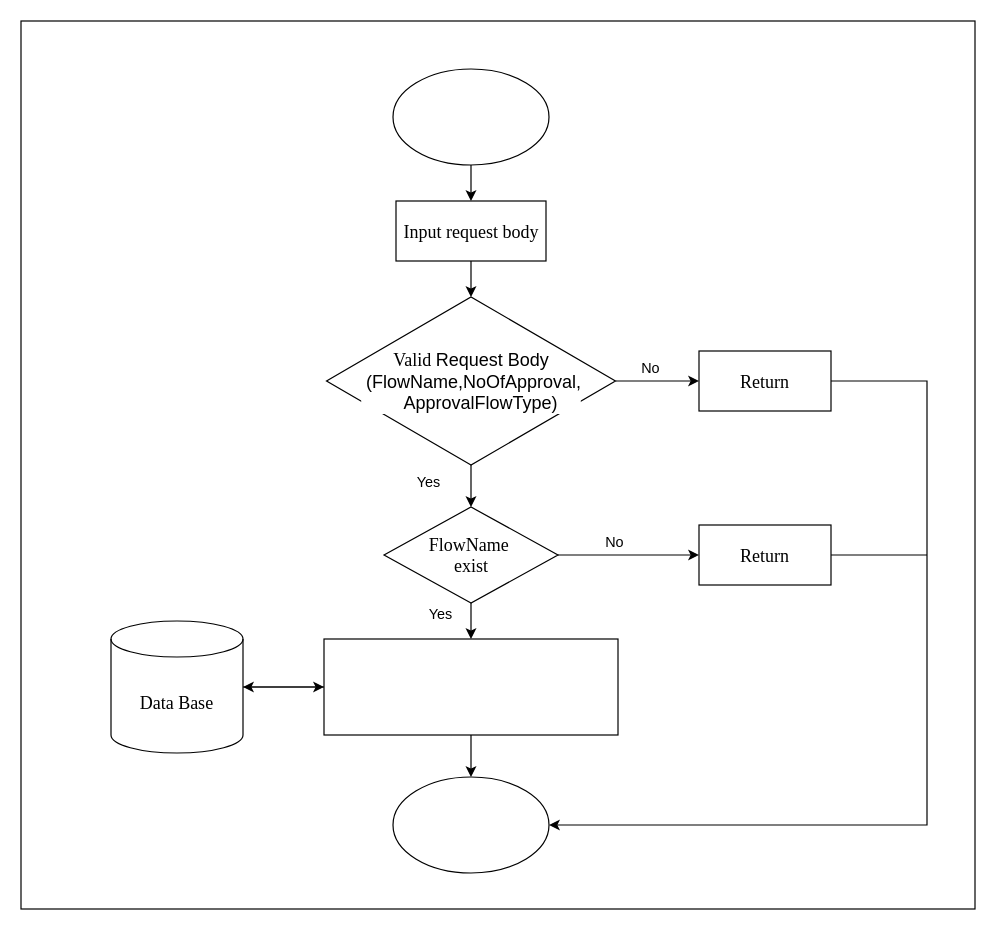
This 996x930 diagram has some shape labels left out. The shapes that lost their labels are listed below. From the top down, each one's centre as x and y in pixels, then its label:
point (470, 116): Start
point (470, 686): Update the Flow data where the flow name is FlowName
point (470, 824): End
